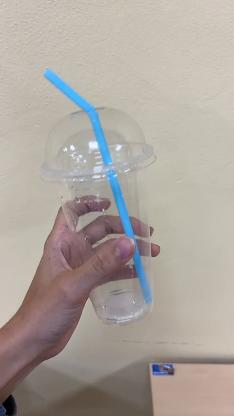Plastic Cup: (37, 103, 155, 324)
